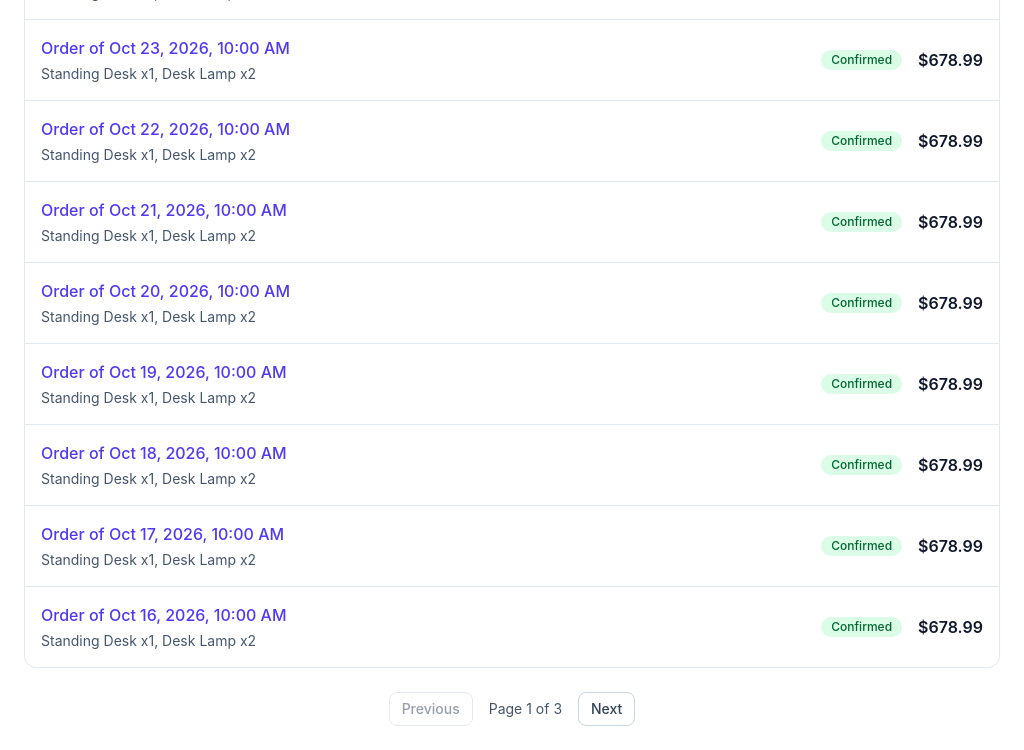
Scenario: OrdersPage › moves between pages and keeps the filter
(page scrolled)
Expected: the text "Page 1 of 3" is shown, 489,699 -> 562,719
Click the button "Next" at {"x": 607, "y": 709}, box 578,692 -> 635,726
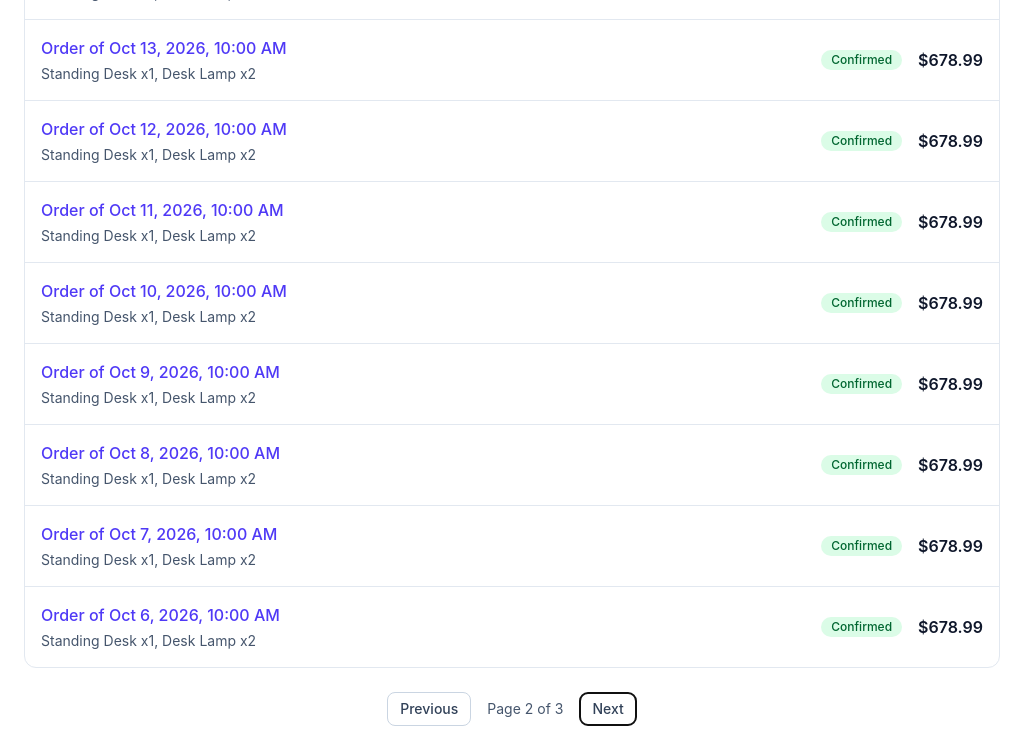
Now the text "Page 2 of 3" is shown, box 487,699 -> 564,719
